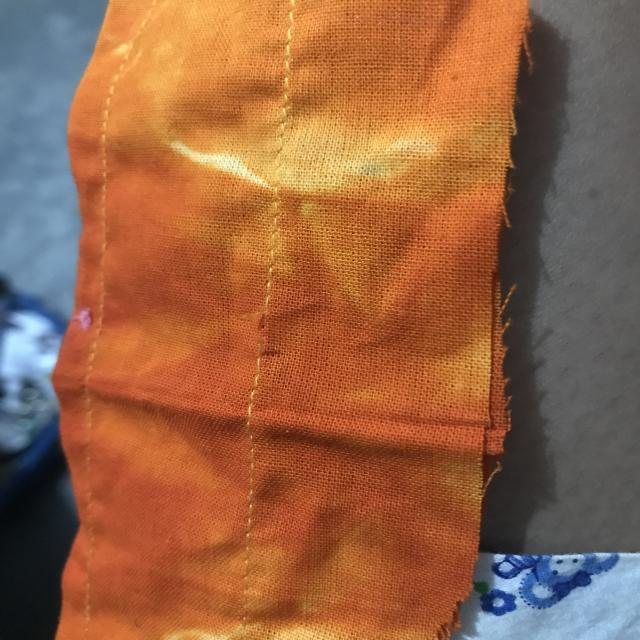broken: (240, 300, 292, 377)
